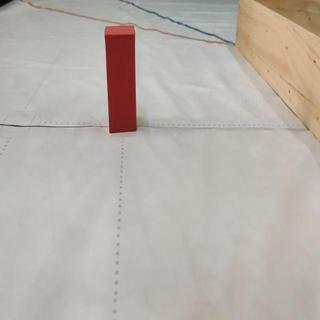redbox: (105, 23, 136, 133)
